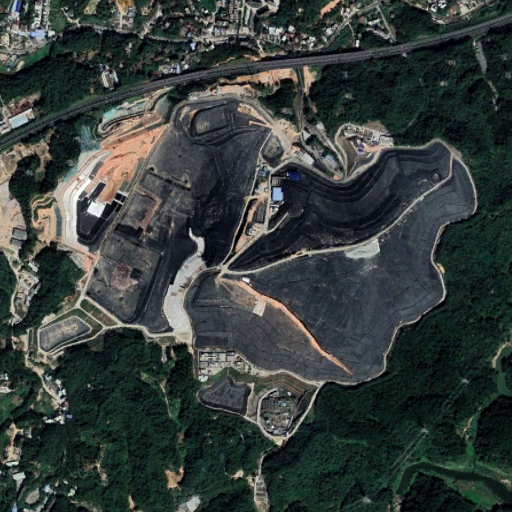lf: (90, 95, 477, 385)
